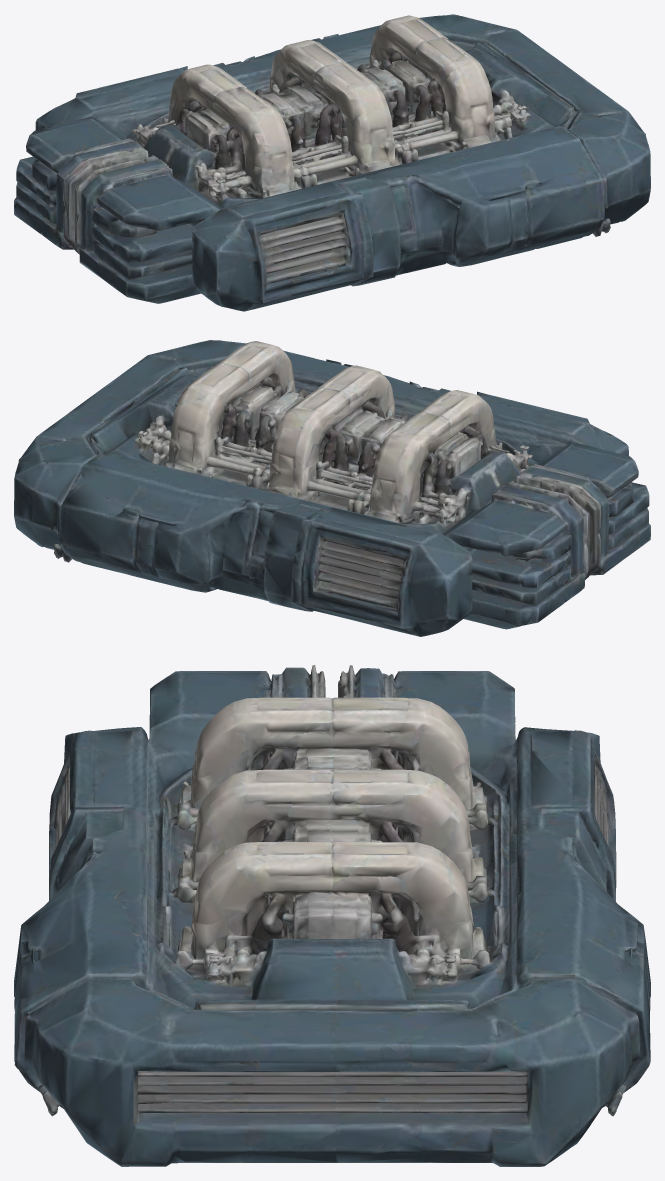
The model's file is arc-longshot-railback-color-lift.glb.
The picture shows the model from 3 angles, top to bottom: view 1: azimuth 30°, elevation 25°; view 2: azimuth 150°, elevation 25°; view 3: azimuth 270°, elevation 25°; orthographic projection. The views are drawn at different scales.
Visible parts, largest first — view 1: chassis; view 2: chassis; view 3: chassis.
Boxes of the visible parts, x1,y1,x2,y2 form: chassis: (14, 14, 650, 311); chassis: (14, 340, 650, 636); chassis: (14, 665, 650, 1166).
Bounding box in the file's own units: 0.9897 × 0.2736 × 0.7291.
Materials: 1 (1 with a texture image).
